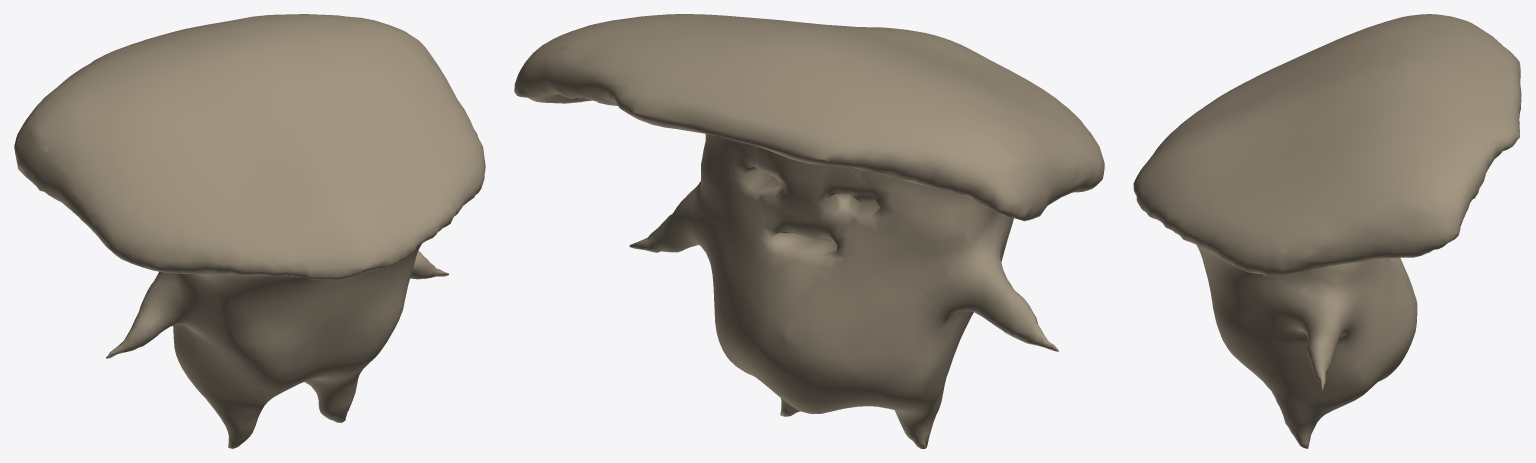
Rendered from blightcap.glb.
The picture shows the model from 3 angles, left to right: view 1: azimuth 30°, elevation 25°; view 2: azimuth 150°, elevation 25°; view 3: azimuth 270°, elevation 25°; orthographic projection. The views are drawn at different scales.
Parts seen in each view (by area): view 1: blightcap; view 2: blightcap; view 3: blightcap.
Boxes of the visible parts, left/top/right/bottom form: blightcap: left=14, top=14, right=485, bottom=448; blightcap: left=514, top=14, right=1104, bottom=448; blightcap: left=1133, top=14, right=1521, bottom=448.
Size of the model in its own units: 1.9 by 1.57 by 1.56.
